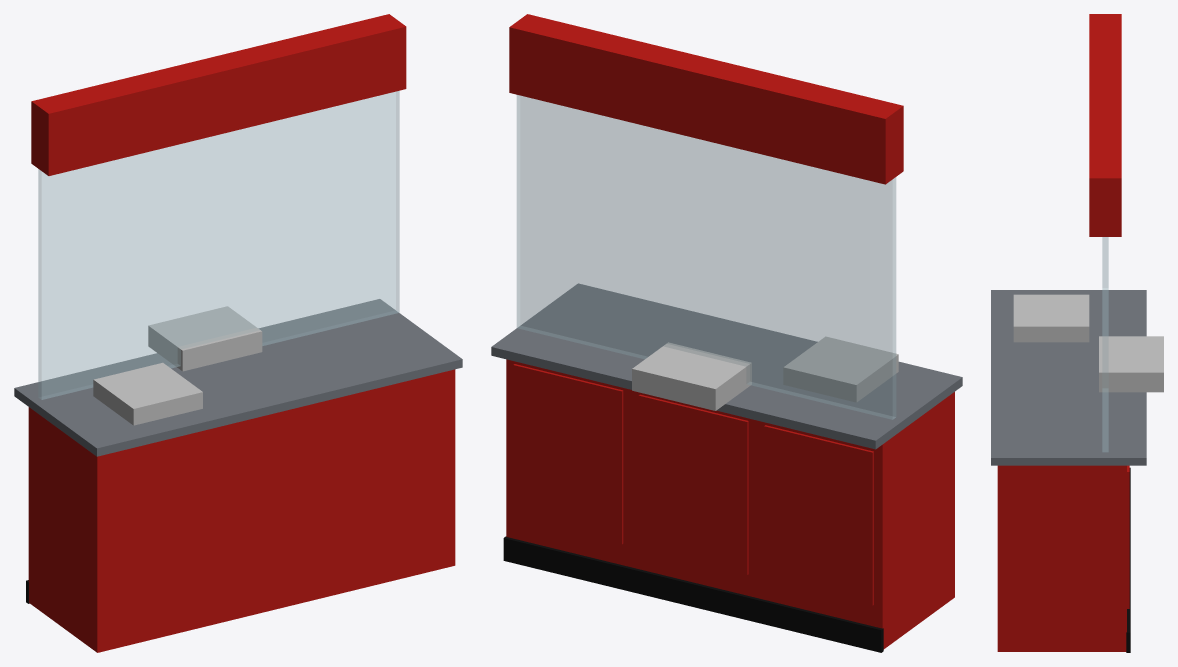
Rendered from retail.store.post_office.glb.
The picture shows the model from 3 angles, left to right: view 1: azimuth 30°, elevation 25°; view 2: azimuth 150°, elevation 25°; view 3: azimuth 270°, elevation 25°; orthographic projection. The views are drawn at different scales.
Parts seen in each view (by area): view 1: main__plastic_red, main__glass, main__laminate_grey, main__steel_stainless; view 2: main__plastic_red, main__glass, main__laminate_grey, main__steel_stainless, main__plastic_black; view 3: main__plastic_red, main__laminate_grey, main__steel_stainless, main__glass, main__plastic_black.
Part boxes in pixels (left/top/right/bottom): main__plastic_red: left=28, top=14, right=455, bottom=652; main__glass: left=38, top=91, right=399, bottom=399; main__laminate_grey: left=14, top=299, right=462, bottom=456; main__steel_stainless: left=93, top=306, right=262, bottom=425; main__plastic_red: left=506, top=14, right=954, bottom=649; main__glass: left=517, top=95, right=895, bottom=419; main__laminate_grey: left=491, top=283, right=962, bottom=449; main__steel_stainless: left=632, top=336, right=898, bottom=410; main__plastic_black: left=503, top=536, right=883, bottom=652; main__plastic_red: left=997, top=14, right=1129, bottom=651; main__laminate_grey: left=991, top=290, right=1146, bottom=465; main__steel_stainless: left=1013, top=294, right=1163, bottom=392; main__glass: left=1102, top=237, right=1108, bottom=451; main__plastic_black: left=1126, top=467, right=1130, bottom=652.
Size of the model in its own units: 1.84 by 2.42 by 0.8.
